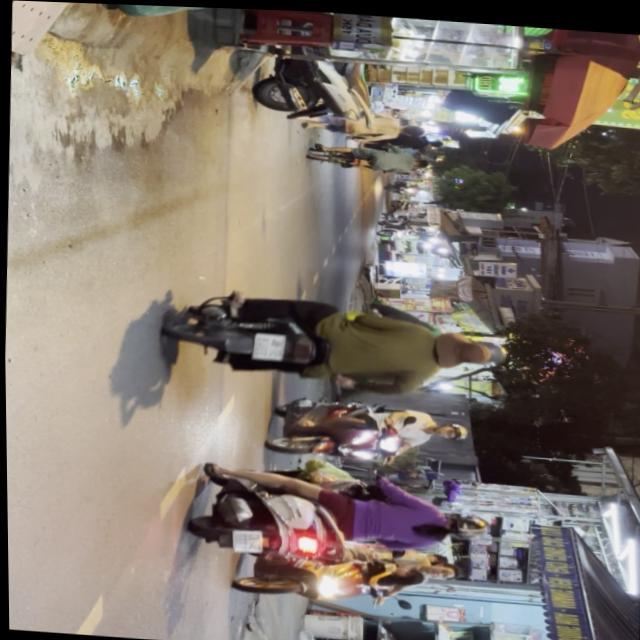helmet: (442, 511, 489, 540), (475, 335, 506, 365), (430, 420, 468, 439)
licenseplate: (160, 283, 508, 399), (180, 457, 493, 574), (229, 542, 465, 611), (262, 391, 470, 468)
motorcyclist: (434, 331, 493, 368), (422, 560, 459, 579)
nohelmet: (251, 332, 285, 360), (231, 528, 261, 552)
